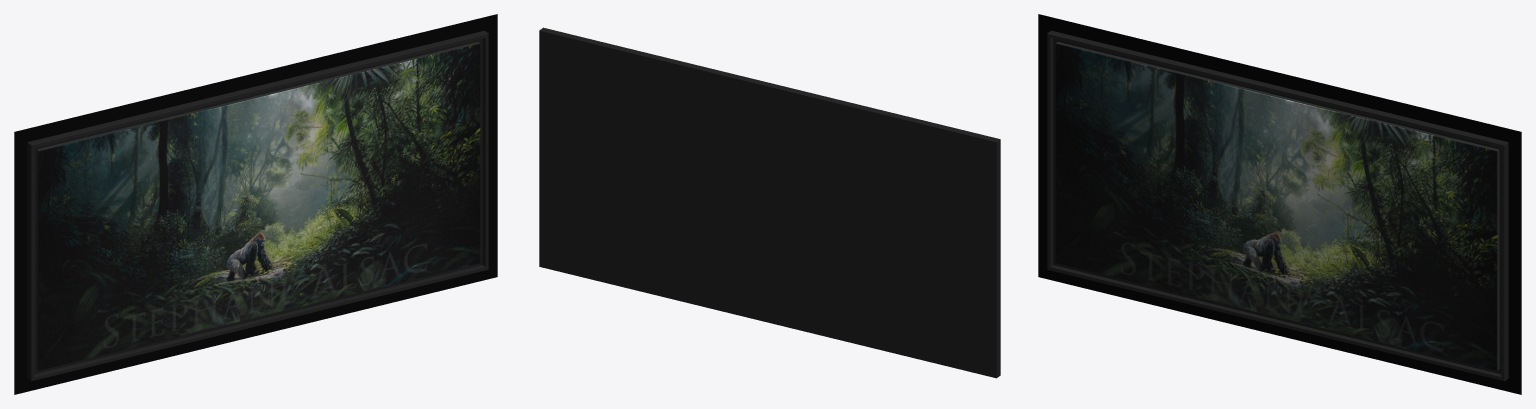
The model's file is tableau-gorille-jungle-monumental-b82e3919.glb.
The picture shows the model from 3 angles, left to right: view 1: azimuth 30°, elevation 25°; view 2: azimuth 150°, elevation 25°; view 3: azimuth 330°, elevation 25°; orthographic projection.
Visible parts, largest first — view 1: Painting; view 2: Painting; view 3: Painting.
Boxes of the visible parts, x1,y1,x2,y2 form: Painting: (14,14,497,394); Painting: (539,27,1000,378); Painting: (1038,14,1521,394).
Bounding box in the file's own units: 2.63 × 1.37 × 0.04.
5 materials, 3 textured.
